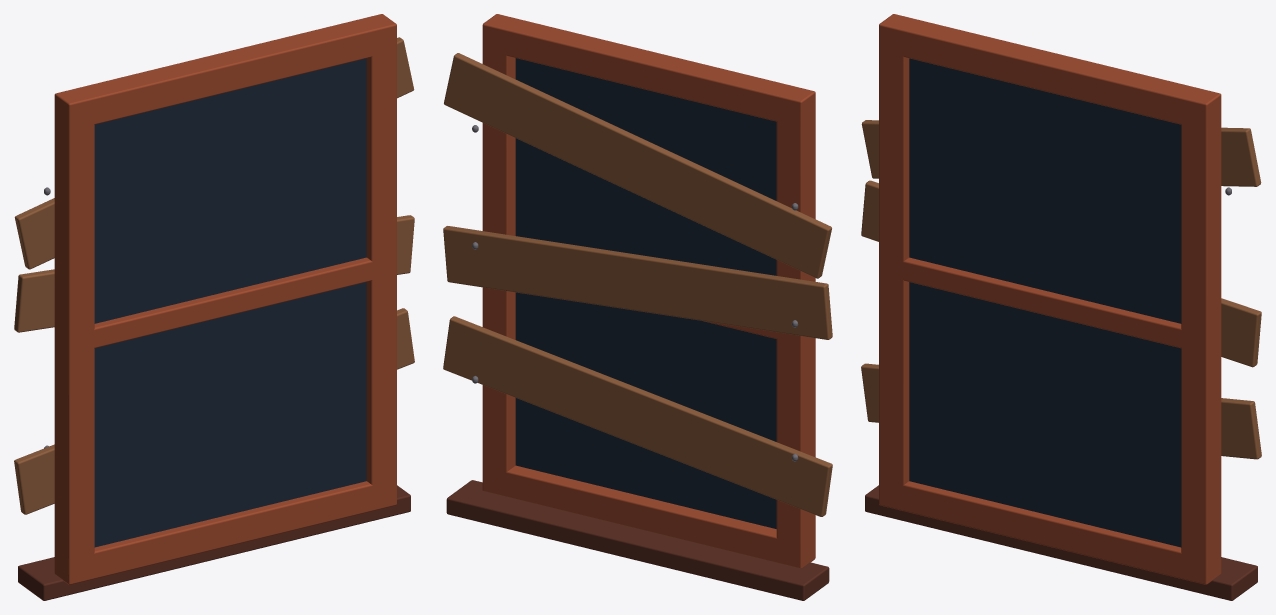
File: SM_PRP_JanelaTabuada.fbx
The picture shows the model from 3 angles, left to right: view 1: azimuth 30°, elevation 25°; view 2: azimuth 150°, elevation 25°; view 3: azimuth 330°, elevation 25°; orthographic projection. The views are drawn at different scales.
Parts seen in each view (by area): view 1: SM_PRP_JanelaTabuada; view 2: SM_PRP_JanelaTabuada; view 3: SM_PRP_JanelaTabuada.
Boxes of the visible parts, x1,y1,x2,y2 form: SM_PRP_JanelaTabuada: (14, 14, 414, 600); SM_PRP_JanelaTabuada: (443, 14, 832, 600); SM_PRP_JanelaTabuada: (861, 14, 1261, 600).
Bounding box in the file's own units: 1.21 × 1.44 × 0.17.
